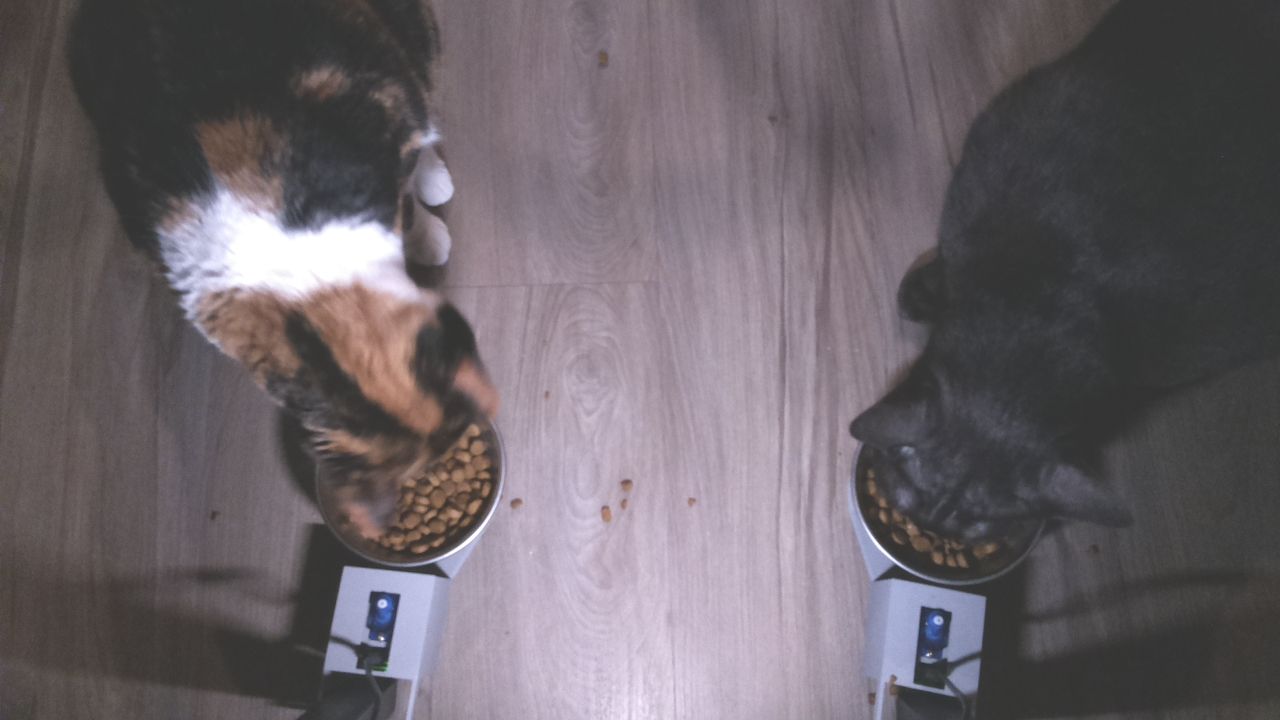bella_eating: (262, 250, 516, 575)
saki_eating: (832, 355, 1149, 592)
